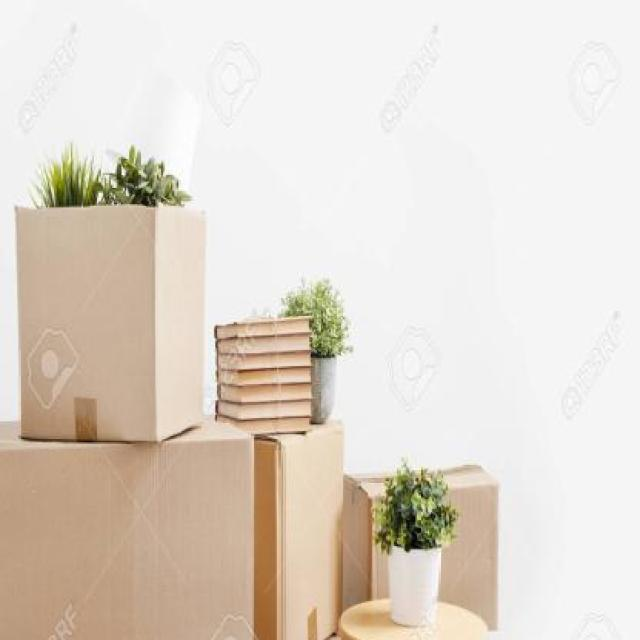box: (0, 403, 262, 640), (11, 186, 212, 449), (337, 452, 505, 640), (243, 403, 349, 640)
